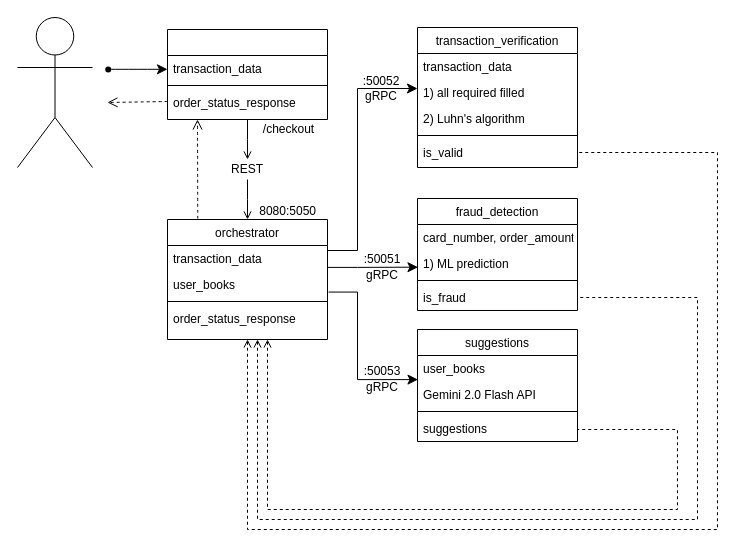
Some shapes in this 744 by 556 pixel diagram are drawn without their labels. The shapes that lost their labels are listed below. From the top down, each one's box as (x1, y1, x2, y2) in pixels, then its label:
(16, 16, 92, 168): Actor
(166, 28, 328, 120): frontend
